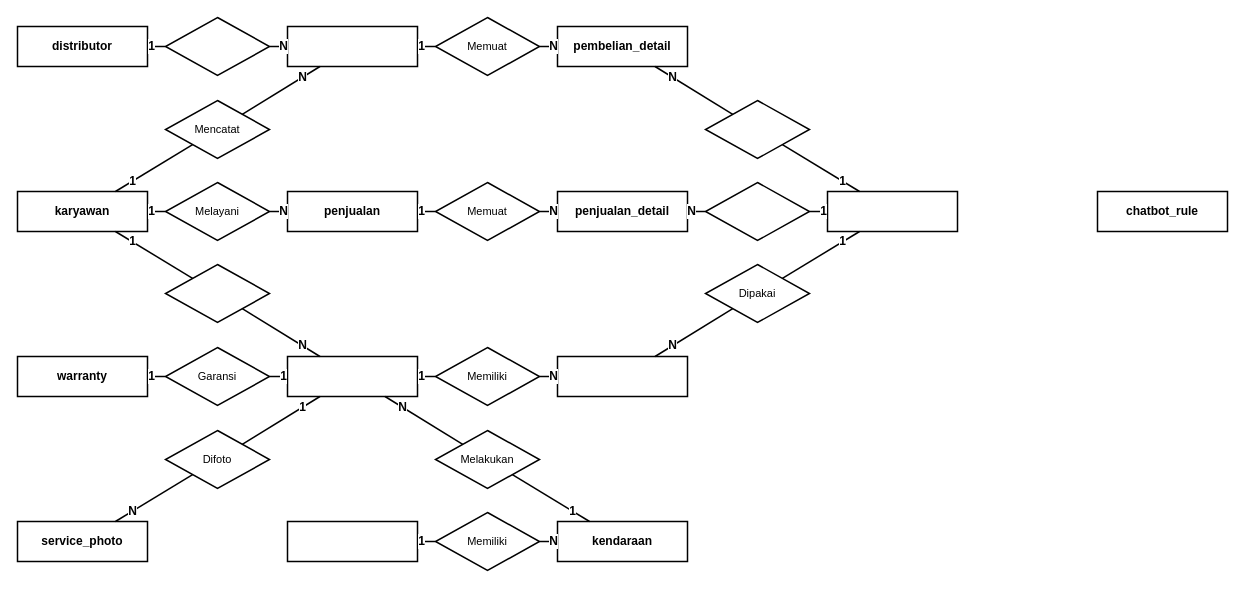
The diagram is 1246 pixels wide and 589 high, and some of its shapes have lost their labels. Each missing label, with the centre of its shape:
Dibeli: the point at 757,129
Dijual: the point at 757,211
Memasok: the point at 217,46
Menangani: the point at 217,293
pelanggan: the point at 352,541
pembelian: the point at 352,46
service: the point at 352,376
service_detail: the point at 622,376
sparepart: the point at 892,211
